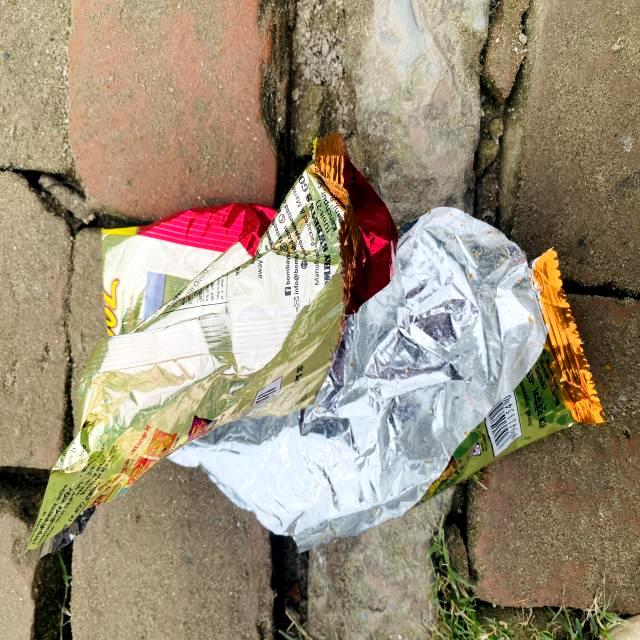packet: (101, 194, 498, 518)
